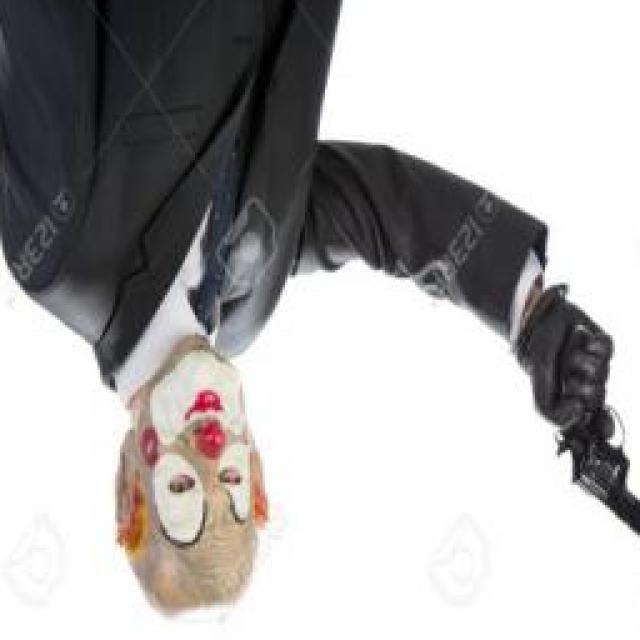pistol: (548, 321, 640, 568)
